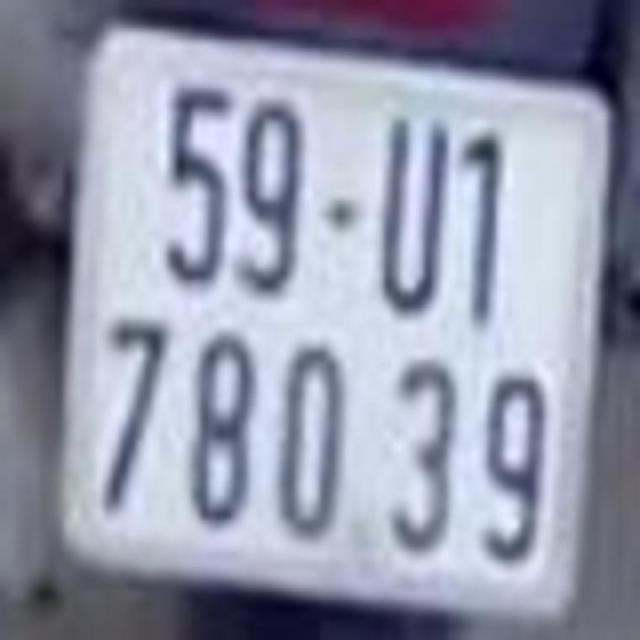0: (283, 337, 337, 537)
1: (458, 130, 505, 321)
3: (381, 351, 448, 554)
5: (168, 88, 228, 284)
7: (89, 310, 170, 516)
8: (194, 334, 249, 524)
9: (472, 372, 548, 564), (239, 98, 301, 297)
U: (380, 120, 444, 314)
